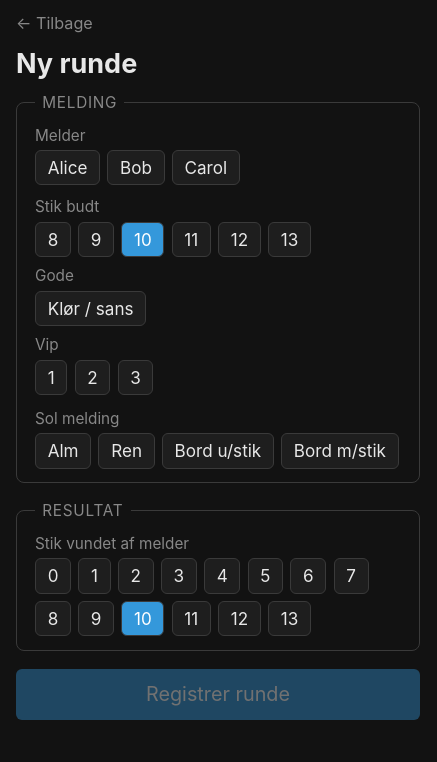
Test case: Round screen - Frants › shows Blind chip when hasBlind and 3 active players
This screenshot has width=437, height=762.
What coordinates should you click on to do the following:
click the button "Alice"
I would click on:
 (68, 168)
Its box is [35,150,100,186].
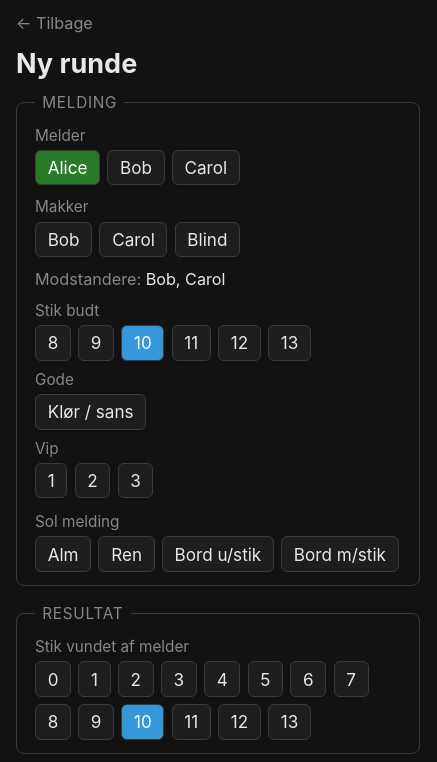
Expected: the button "Blind" is shown, [175,222,240,257]
